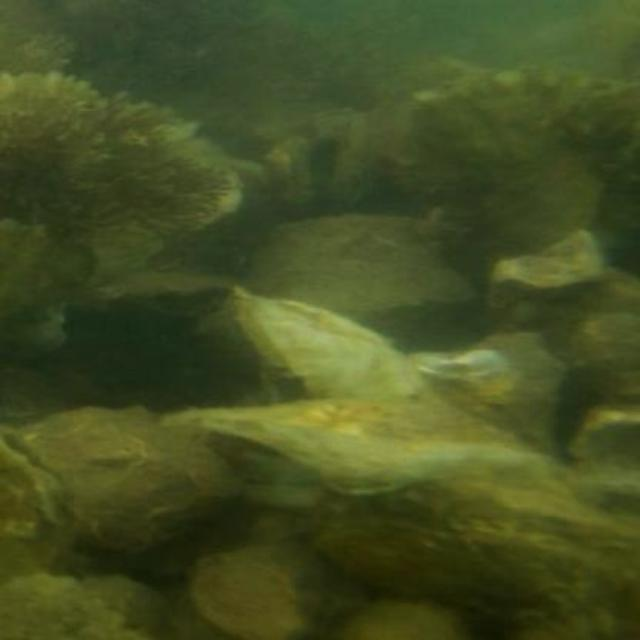Oyster-Closed: (164, 390, 546, 497), (16, 410, 240, 550), (242, 207, 477, 325), (227, 292, 440, 405), (193, 541, 368, 636), (0, 575, 141, 640), (0, 419, 69, 527), (99, 271, 256, 315)
